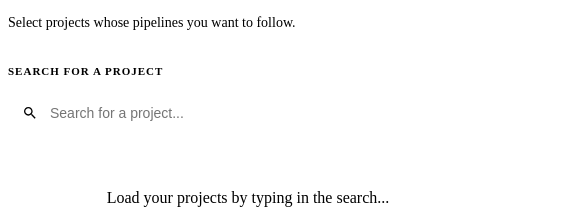
ProjectsPage › shows a hint and does not search below 2 characters
Type "a" into the field with placeholder "Search for a project..." at (277,113), box [8,93,546,133]
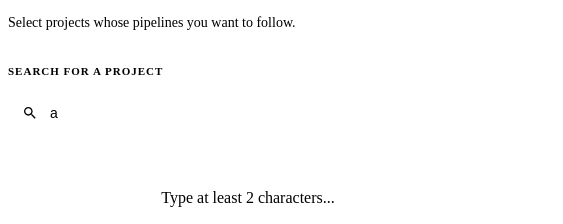
Expected: the text "Type at least 2 characters..." is shown, [161,189,335,206]
